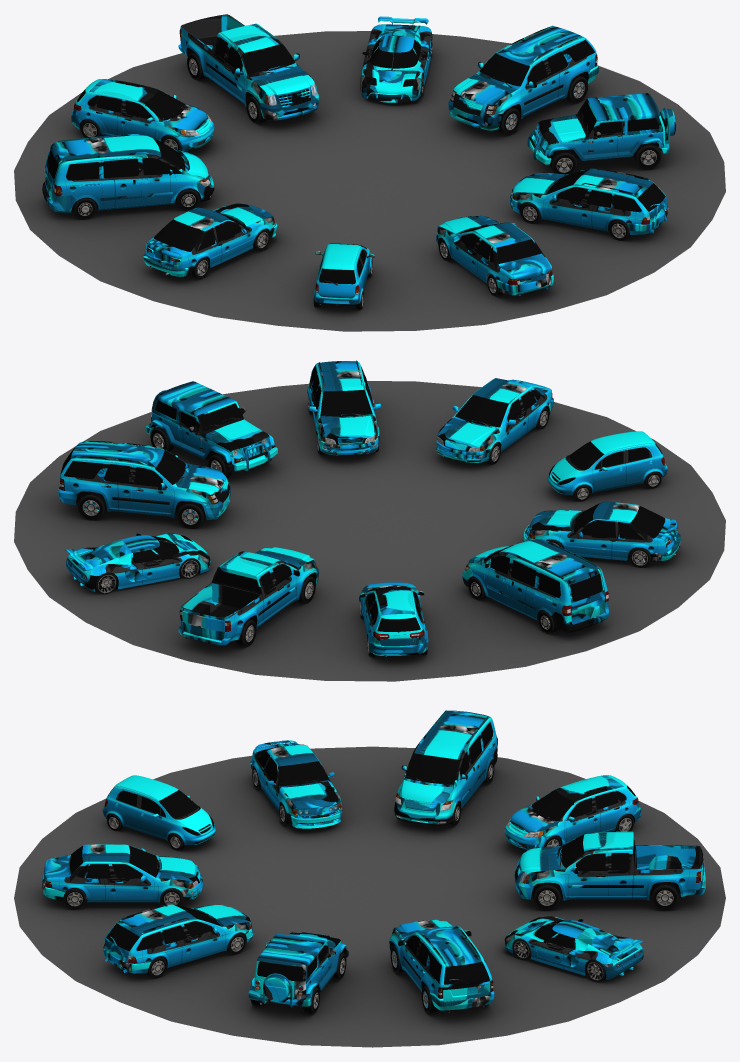
File: Generic_passenger_car_pack.glb
3 renders of one model, top to bottom at view 1: azimuth 30°, elevation 25°; view 2: azimuth 150°, elevation 25°; view 3: azimuth 270°, elevation 25°, orthographic.
Parts seen in each view (by area): view 1: Cylinder001__0, minivan body_Body_0, Pickup Body_Body_0, SUV Body_Body_0, Offroad Body_Body_0, Wagon Body_Body_0, Hatchback Body_Body_0, Sedan Body_Body_0, Coupe Body_Body_0, Sport body_Body_0, Compact Body_Body_0, minivan body_Glass_0 (+11 smaller); view 2: Cylinder001__0, SUV Body_Body_0, minivan body_Body_0, Pickup Body_Body_0, Offroad Body_Body_0, Coupe Body_Body_0, Sport body_Body_0, Sedan Body_Body_0, Wagon Body_Body_0, Compact Body_Body_0, Hatchback Body_Body_0, SUV Body_Glass_0 (+11 smaller); view 3: Cylinder001__0, Pickup Body_Body_0, minivan body_Body_0, Sedan Body_Body_0, Wagon Body_Body_0, SUV Body_Body_0, Hatchback Body_Body_0, Sport body_Body_0, Offroad Body_Body_0, Coupe Body_Body_0, Compact Body_Body_0, minivan body_Glass_0 (+11 smaller).
Boxes of the visible parts, x1,y1,x2,y2 form: Cylinder001__0: [14, 31, 725, 331]; minivan body_Body_0: [42, 134, 214, 212]; Pickup Body_Body_0: [178, 14, 318, 120]; SUV Body_Body_0: [448, 25, 598, 130]; Offroad Body_Body_0: [527, 93, 675, 164]; Wagon Body_Body_0: [510, 168, 668, 234]; Hatchback Body_Body_0: [71, 79, 214, 150]; Sedan Body_Body_0: [436, 215, 553, 296]; Coupe Body_Body_0: [143, 203, 277, 276]; Sport body_Body_0: [361, 16, 431, 102]; Compact Body_Body_0: [314, 244, 374, 306]; minivan body_Glass_0: [46, 138, 185, 180]; Cylinder001__0: [14, 381, 725, 681]; SUV Body_Body_0: [58, 440, 230, 519]; minivan body_Body_0: [462, 539, 609, 632]; Pickup Body_Body_0: [178, 547, 318, 646]; Offroad Body_Body_0: [146, 381, 277, 471]; Coupe Body_Body_0: [523, 501, 680, 561]; Sport body_Body_0: [65, 533, 210, 591]; Sedan Body_Body_0: [436, 378, 553, 462]; Wagon Body_Body_0: [307, 360, 381, 455]; Compact Body_Body_0: [547, 431, 667, 496]; Hatchback Body_Body_0: [359, 582, 428, 657]; SUV Body_Glass_0: [61, 446, 185, 486]; Cylinder001__0: [14, 746, 725, 1047]; Pickup Body_Body_0: [514, 831, 705, 900]; minivan body_Body_0: [394, 710, 497, 825]; Sedan Body_Body_0: [42, 844, 203, 902]; Wagon Body_Body_0: [103, 904, 253, 973]; SUV Body_Body_0: [389, 919, 494, 1013]; Hatchback Body_Body_0: [504, 775, 641, 850]; Sport body_Body_0: [504, 916, 644, 979]; Offroad Body_Body_0: [248, 932, 348, 1007]; Coupe Body_Body_0: [250, 740, 342, 828]; Compact Body_Body_0: [102, 775, 215, 846]; minivan body_Glass_0: [405, 722, 493, 784].
Bounding box in the file's own units: 21688 × 1986 × 21688.
6 materials, 5 textured.
